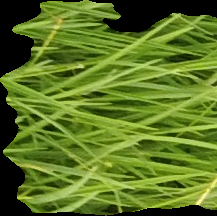grass: (1, 1, 216, 215)
